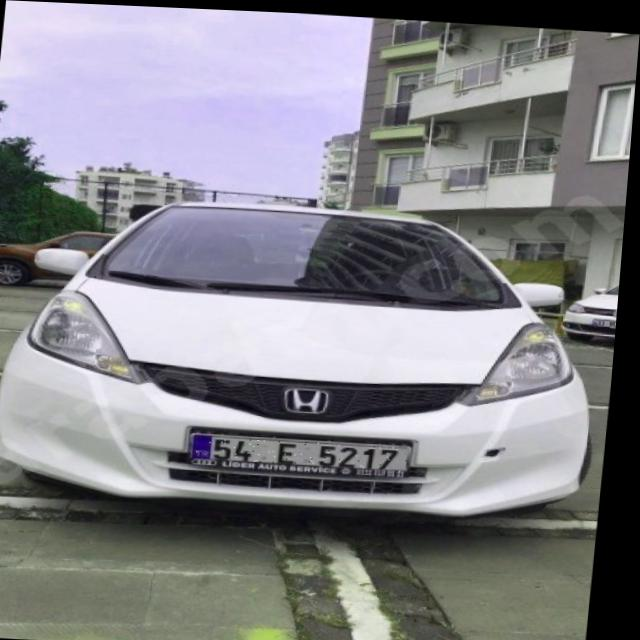license_plate: (199, 432, 415, 468)
